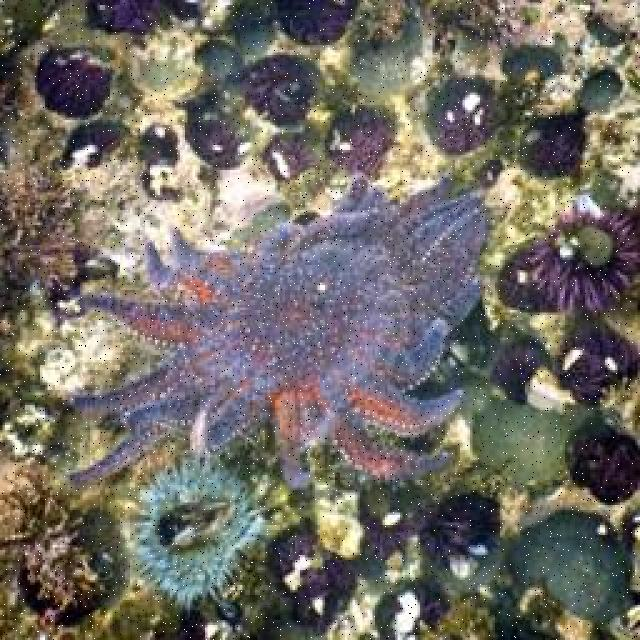reefs: (60, 172, 492, 488), (126, 458, 282, 608), (0, 443, 105, 627), (512, 204, 638, 315), (0, 161, 78, 317), (356, 495, 503, 577), (423, 75, 527, 154), (557, 316, 638, 406), (567, 410, 638, 507), (239, 53, 324, 127), (33, 48, 115, 122)
